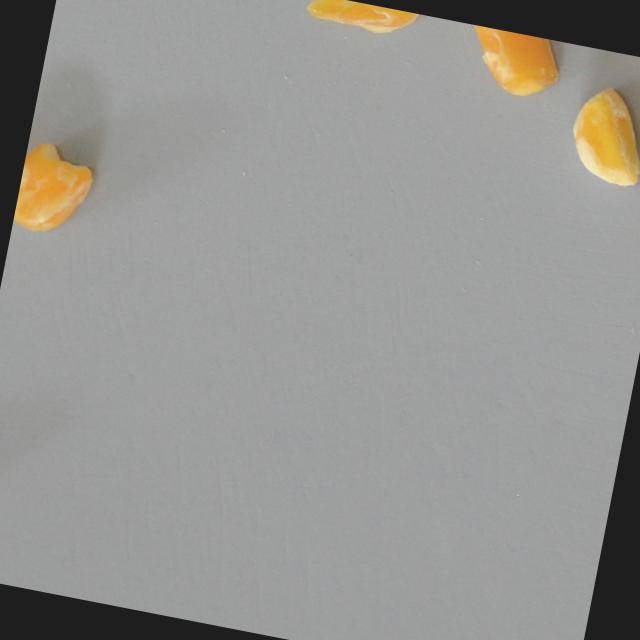pelicula: (12, 136, 102, 243), (562, 78, 640, 190), (458, 23, 566, 103), (301, 0, 424, 41)
